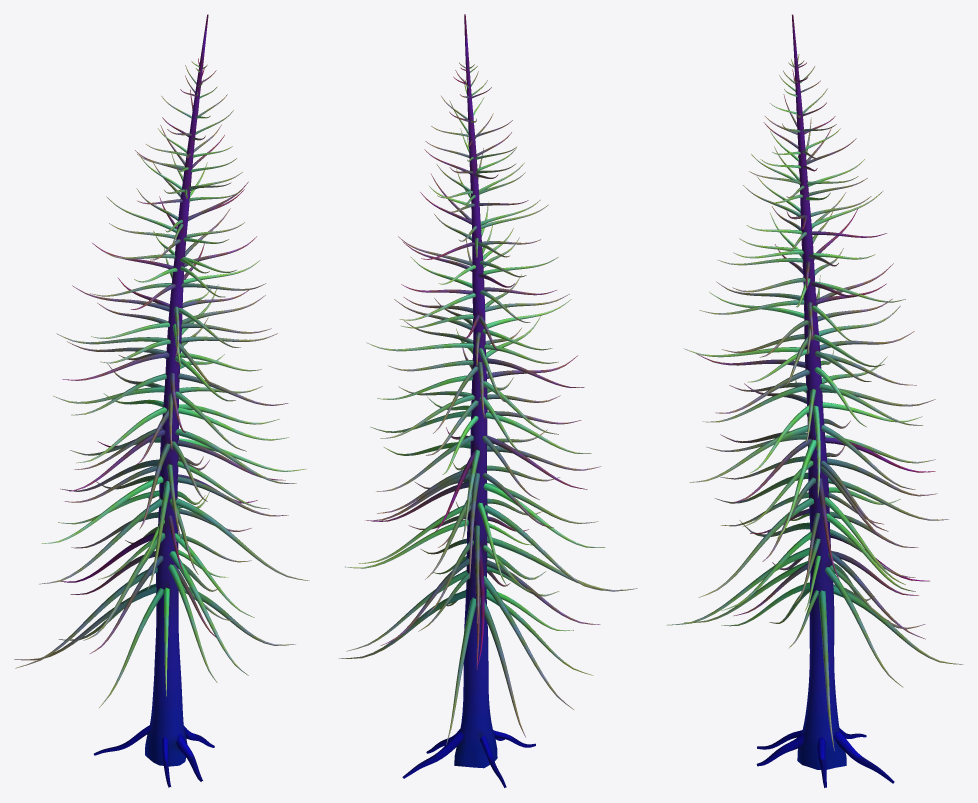
The model's file is spruce-hero.glb.
3 renders of one model, left to right at view 1: azimuth 30°, elevation 25°; view 2: azimuth 150°, elevation 25°; view 3: azimuth 270°, elevation 25°, orthographic. The views are drawn at different scales.
Parts seen in each view (by area): view 1: bark; view 2: bark; view 3: bark.
Part boxes in pixels (box(x1,y1,x2,y2)): bark: box(14, 14, 309, 787); bark: box(338, 14, 637, 787); bark: box(666, 14, 963, 787).
Bounding box in the file's own units: 8.31 × 22.53 × 7.96.
